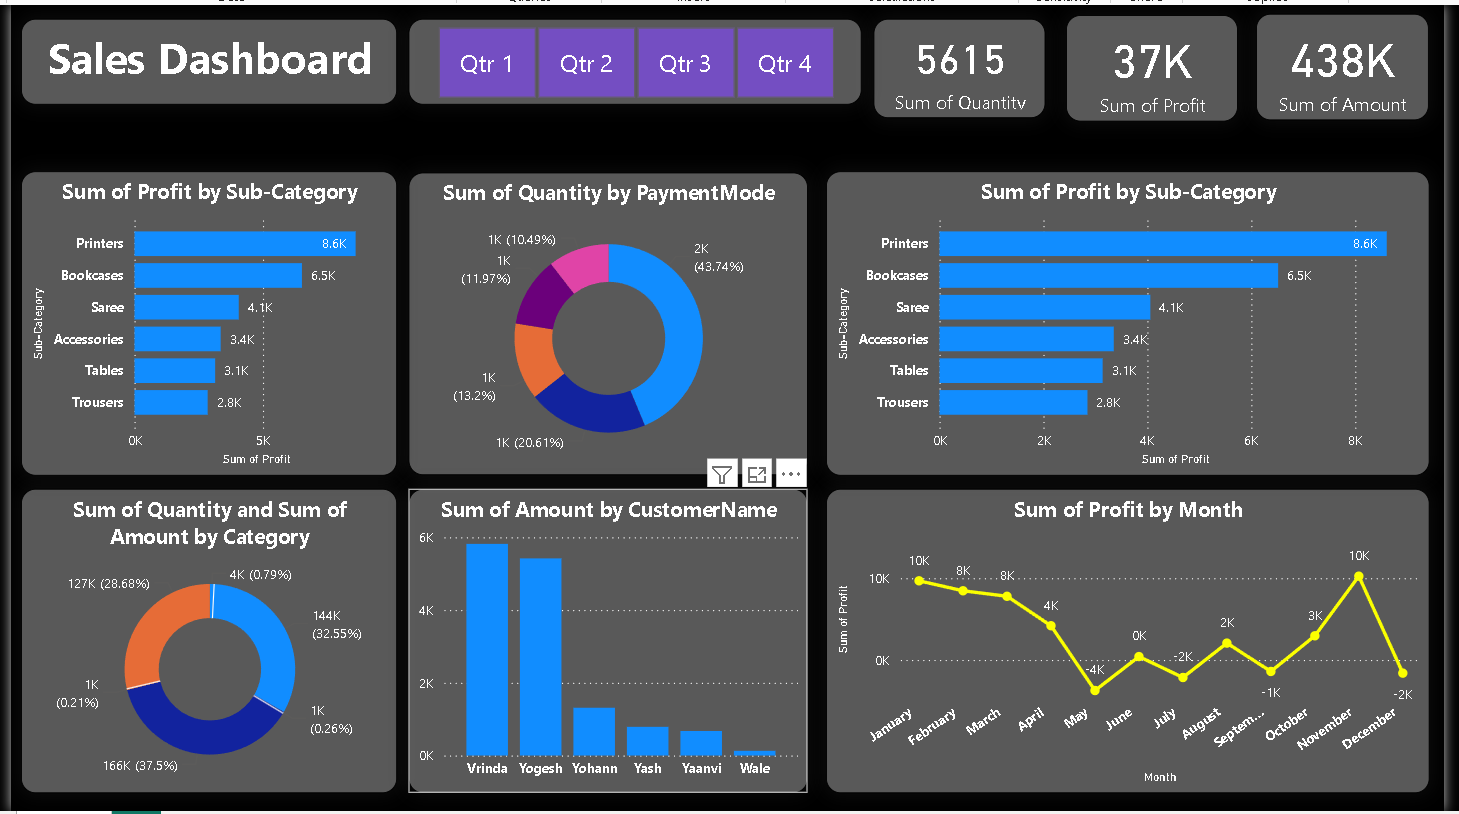

Layout of this report page (visuals, bound fields, positions):
{"tool":"powerbi","page":{"name":"Page 1","canvas":[1280,720],"ordinal":0},"visuals":[{"type":"textbox","box":[9.4,12.1,336.3,76.7],"z":0},{"type":"lineChart","fields":{"Category":["Orders.Order Date.Variation.Date Hierarchy.Month"],"Y":["Sum(Details.Profit)"]},"box":[727.7,431.8,539.4,271.7],"z":1000},{"type":"barChart","fields":{"Y":["Sum(Details.Profit)"],"Category":["Details.Sub-Category"]},"box":[727.7,148,539.4,271.7],"z":2000},{"type":"donutChart","fields":{"Y":["Sum(Details.Quantity)","Sum(Details.Amount)"],"Category":["Details.Category"]},"box":[9.4,431.8,336.3,271.7],"z":3000},{"type":"donutChart","fields":{"Y":["Sum(Details.Quantity)"],"Category":["Details.PaymentMode"]},"box":[355.1,149.3,356.5,270.4],"z":4000},{"type":"card","fields":{"Values":["Sum(Details.Amount)"]},"box":[1112.4,8.1,154.7,95.5],"z":5000},{"type":"card","fields":{"Values":["Sum(Details.Profit)"]},"box":[942.9,9.4,153.3,95.5],"z":6000},{"type":"card","fields":{"Values":["Sum(Details.Quantity)"]},"box":[770.7,12.1,153.3,88.8],"z":7000},{"type":"barChart","fields":{"Y":["Sum(Details.Profit)"],"Category":["Details.Sub-Category"]},"box":[9.4,148,336.3,271.7],"z":8000},{"type":"lineStackedColumnComboChart","fields":{"Category":["Orders.CustomerName"],"Y":["Sum(Details.Amount)"]},"box":[355.1,431.8,356.5,271.7],"z":9000},{"type":"slicer","fields":{"Values":["Orders.Order Date.Variation.Date Hierarchy.Quarter"]},"box":[355.1,12.1,404.9,76.7],"z":10000}]}

Visuals, with their boxes in screenshot pixels (x1, y1, x2, y2):
textbox: [left=0, top=6, right=384, bottom=95]
lineChart - Orders.Order Date.Variation.Date Hierarchy.Month x Sum(Details.Profit): [left=825, top=491, right=1448, bottom=805]
barChart - Sum(Details.Profit) x Details.Sub-Category: [left=825, top=163, right=1448, bottom=477]
donutChart - Sum(Details.Quantity) x Sum(Details.Amount): [left=0, top=491, right=384, bottom=805]
donutChart - Sum(Details.Quantity) x Details.PaymentMode: [left=395, top=165, right=806, bottom=477]
card - Sum(Details.Amount): [left=1269, top=2, right=1448, bottom=112]
card - Sum(Details.Profit): [left=1073, top=3, right=1250, bottom=114]
card - Sum(Details.Quantity): [left=875, top=6, right=1052, bottom=109]
barChart - Sum(Details.Profit) x Details.Sub-Category: [left=0, top=163, right=384, bottom=477]
lineStackedColumnComboChart - Orders.CustomerName x Sum(Details.Amount): [left=395, top=491, right=806, bottom=805]
slicer - Orders.Order Date.Variation.Date Hierarchy.Quarter: [left=395, top=6, right=862, bottom=95]
